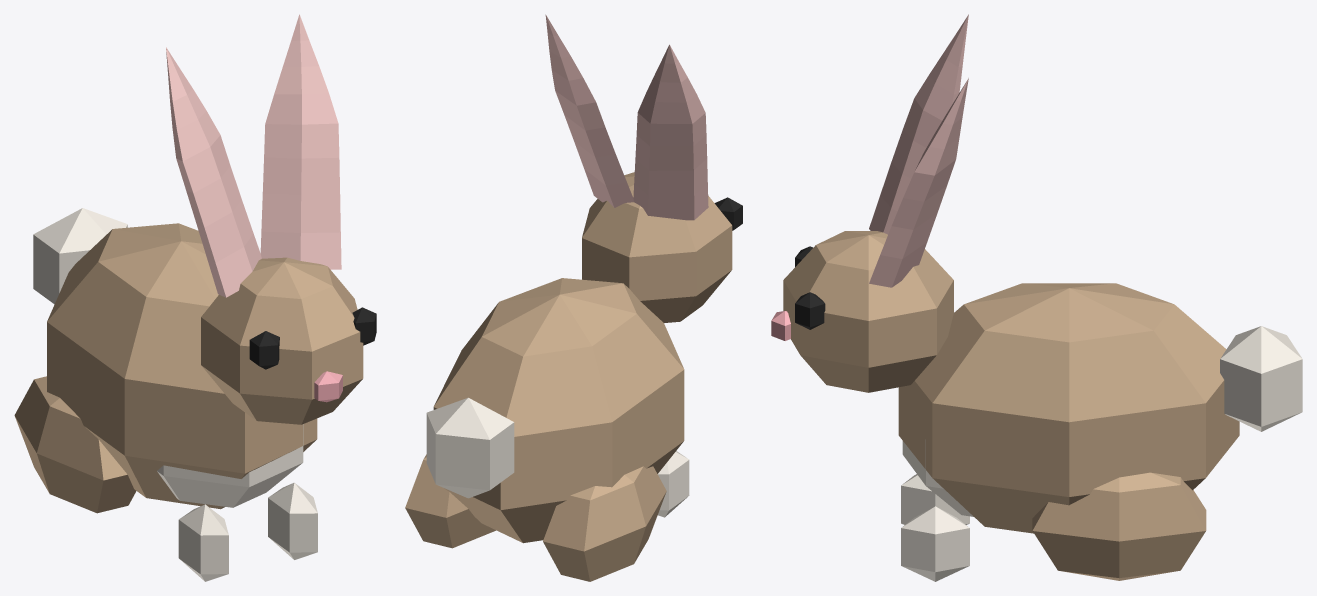
Rendered from rabbit.glb.
3 views of the same model, side by side, from view 1: azimuth 30°, elevation 25°; view 2: azimuth 150°, elevation 25°; view 3: azimuth 270°, elevation 25° (orthographic). The views are drawn at different scales.
Visible parts, largest first — view 1: Rabbit; view 2: Rabbit; view 3: Rabbit.
Boxes of the visible parts, x1,y1,x2,y2 form: Rabbit: (14,14,376,581); Rabbit: (405,14,742,581); Rabbit: (771,14,1302,581).
Size of the model in its own units: 0.32 by 0.68 by 0.6359.
